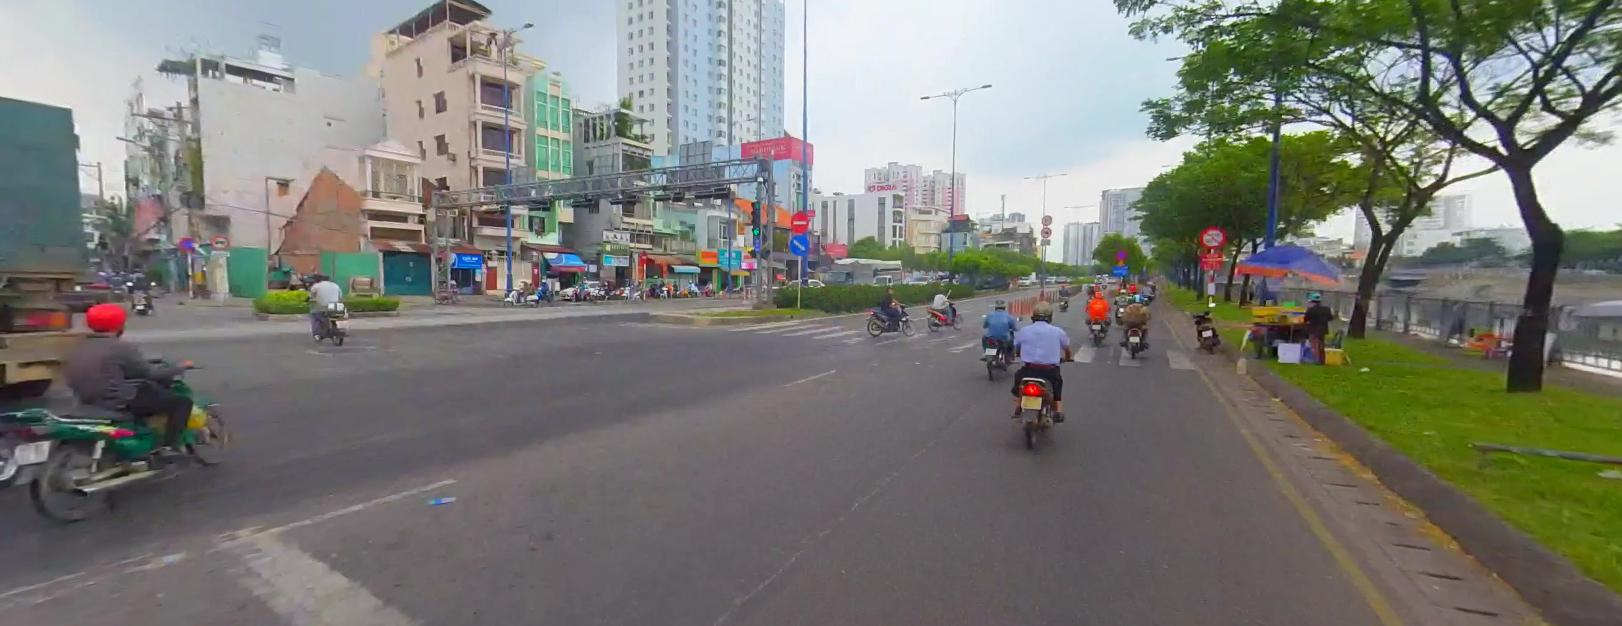Cam con lai: (1200, 223, 1226, 247), (210, 234, 227, 249), (1040, 226, 1050, 236), (1041, 213, 1051, 223)
Cam dung va do: (179, 235, 197, 251), (1114, 249, 1125, 258)
Cam nguoc chieu: (790, 209, 808, 232), (639, 249, 645, 261)
Hieu lenh: (789, 233, 808, 254)
Nguy hiem: (1117, 259, 1124, 265)
